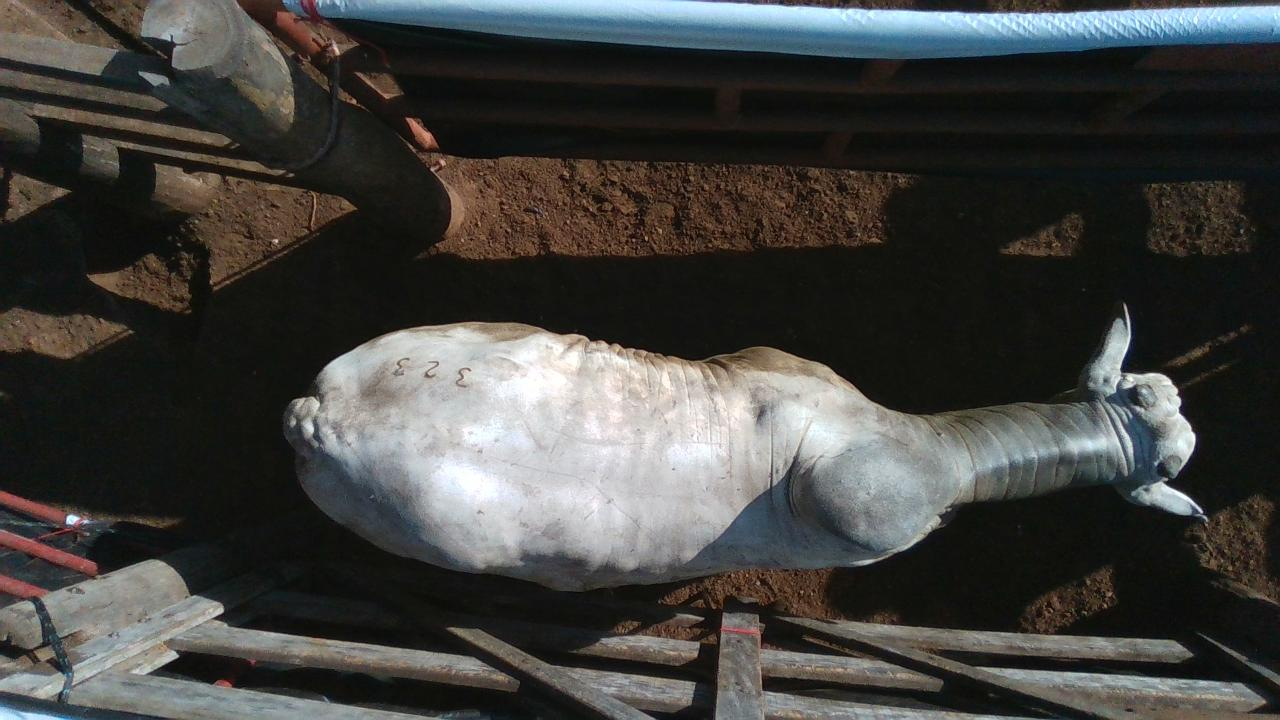cattle: (281, 299, 1209, 594)
